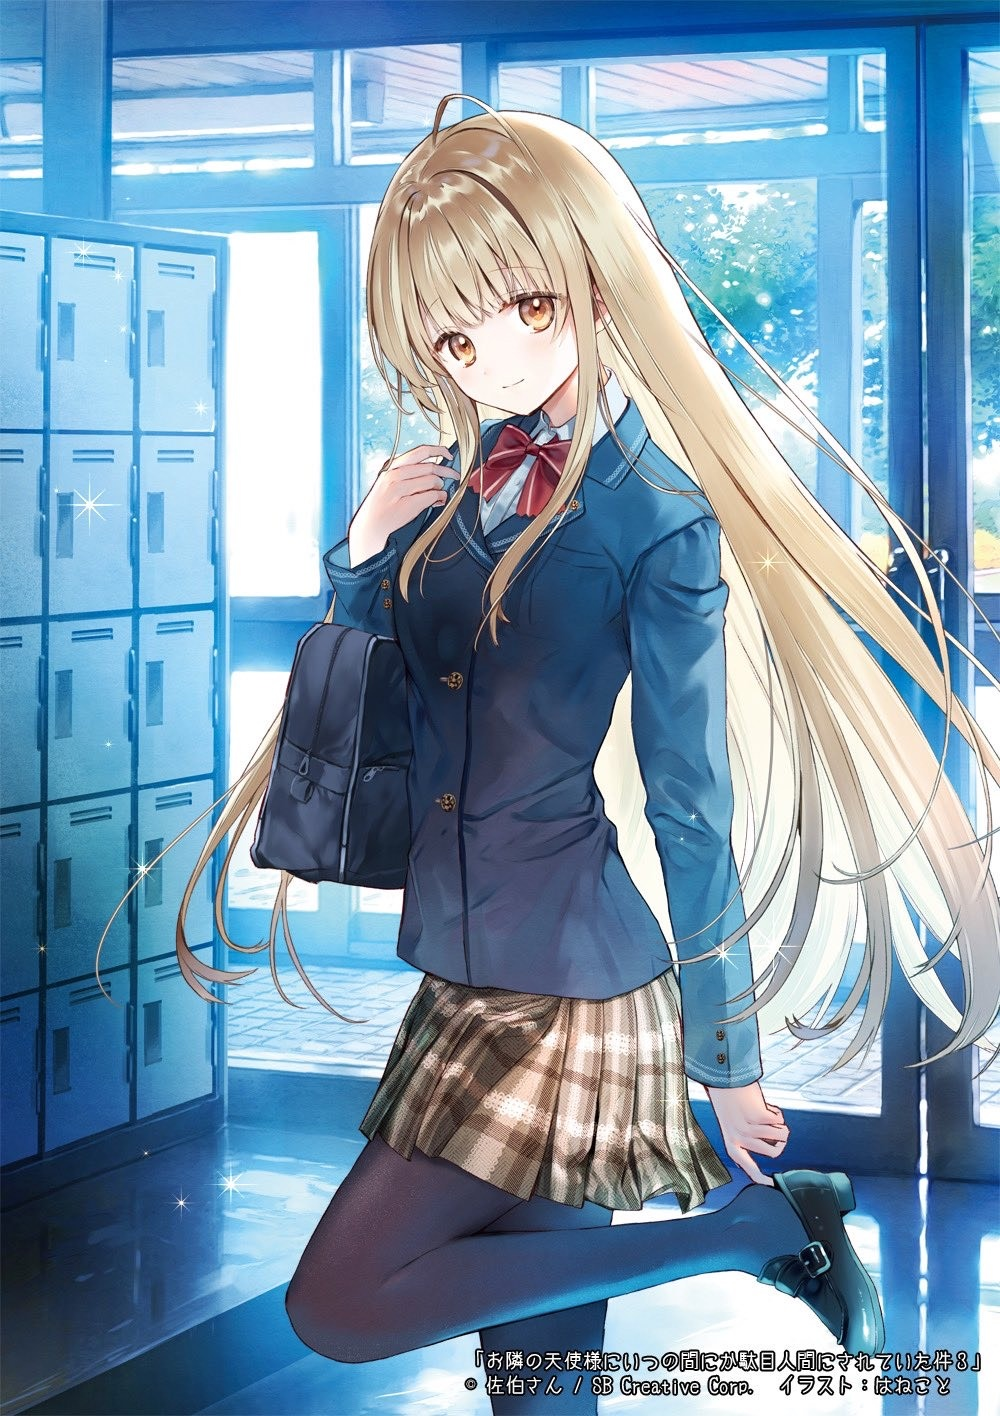纸片人正脸: (354, 97, 677, 433)
